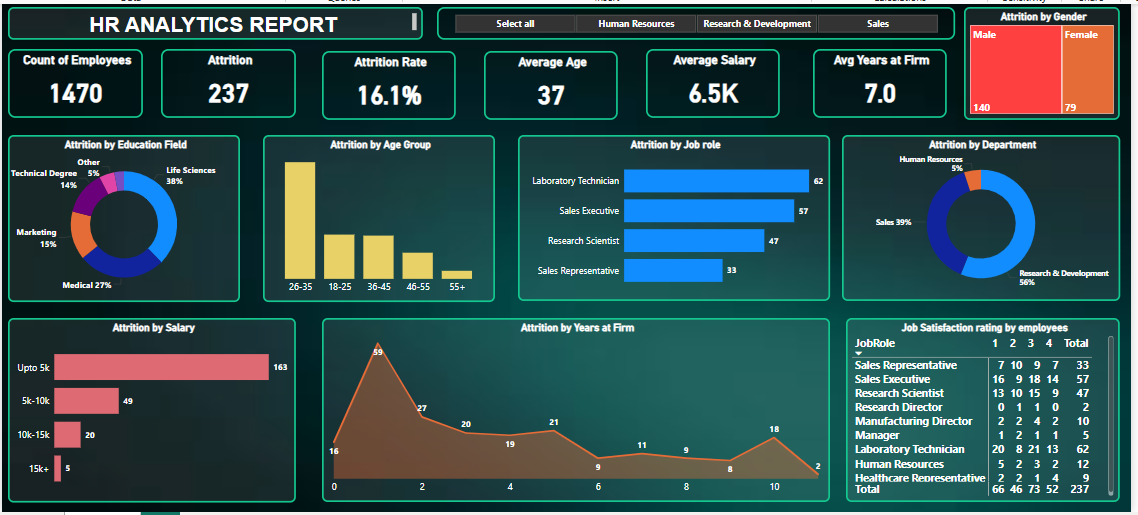

The page's visual inventory and layout, read from the dashboard file:
{"tool":"powerbi","page":{"name":"Page 1","canvas":[2000,900],"ordinal":0},"visuals":[{"type":"card","title":"Count of Employees","fields":{"Values":["Sum(HR_Analytics.EmployeeCount)"]},"box":[10.6,79.1,239.2,122.2],"z":0},{"type":"card","title":"Attrition","fields":{"Values":["Sum(HR_Analytics.Attrition Count)"]},"box":[281.3,79.1,239.2,122.2],"z":1000},{"type":"card","title":"Attrition Rate","fields":{"Values":["HR_Analytics.AttritionRate"]},"box":[567.7,83.5,237.5,122.4],"z":2000},{"type":"card","title":"Average Age","fields":{"Values":["Avg(HR_Analytics.Age)"]},"box":[853.4,83.5,237.5,122.4],"z":3000},{"type":"card","title":"Average Salary","fields":{"Values":["Avg(HR_Analytics.MonthlyIncome)"]},"box":[1141,79.8,237.5,122.4],"z":4000},{"type":"card","title":"Avg Years at Firm","fields":{"Values":["Avg(HR_Analytics.YearsAtCompany)"]},"box":[1436,79.8,237.5,122.4],"z":5000},{"type":"donutChart","title":"Attrition by Education Field","fields":{"Category":["HR_Analytics.EducationField"],"Y":["Sum(HR_Analytics.Attrition Count)"]},"box":[10.6,232.1,411,295.9],"z":6000},{"type":"columnChart","title":"Attrition by Age Group","fields":{"Category":["HR_Analytics.AgeGroup"],"Y":["Sum(HR_Analytics.Attrition Count)"]},"box":[462.4,232.1,411,295.9],"z":7000},{"type":"pivotTable","title":"Job Satisfaction rating by employees ","fields":{"Rows":["HR_Analytics.JobRole"],"Values":["Sum(HR_Analytics.Attrition Count)"],"Columns":["HR_Analytics.JobSatisfaction"]},"box":[1495.3,556.3,485.4,326],"z":8000},{"type":"clusteredBarChart","title":"Attrition by Salary","fields":{"Category":["HR_Analytics.SalarySlab"],"Y":["Sum(HR_Analytics.Attrition Count)"]},"box":[11.1,556.6,510.2,326.5],"z":9000},{"type":"clusteredBarChart","title":"Attrition by Job role","fields":{"Y":["Sum(HR_Analytics.Attrition Count)"],"Category":["HR_Analytics.JobRole"]},"box":[914.2,232.1,552.8,294.1],"z":10000},{"type":"areaChart","title":"Attrition by Years at Firm","fields":{"Category":["HR_Analytics.YearsAtCompany"],"Y":["Sum(HR_Analytics.Attrition Count)"]},"box":[566.9,556.3,900,326],"z":11000},{"type":"treemap","title":"Attrition by Gender","fields":{"Group":["HR_Analytics.Gender"],"Values":["Sum(HR_Analytics.Attrition Count)"]},"box":[1705,5.6,276.4,200.4],"z":12000},{"type":"slicer","fields":{"Values":["HR_Analytics.Department"]},"box":[769.9,5.6,918.4,57.5],"z":13000},{"type":"textbox","box":[11.1,5.6,734.7,57.5],"z":14000},{"type":"pieChart","title":"Attrition by Department","fields":{"Category":["HR_Analytics.Department"],"Y":["Sum(HR_Analytics.Attrition Count)"]},"box":[1488.2,232.1,492.5,294.1],"z":15000}]}

Visuals, with their boxes in screenshot pixels (x1, y1, x2, y2), scaled from the page's 2000x900 canvas onto the 1138x515 screenshot:
"Count of Employees" card: 6:45:142:115
"Attrition" card: 160:45:296:115
"Attrition Rate" card: 323:48:458:118
"Average Age" card: 486:48:621:118
"Average Salary" card: 649:46:784:116
"Avg Years at Firm" card: 817:46:952:116
"Attrition by Education Field" donutChart: 6:133:240:302
"Attrition by Age Group" columnChart: 263:133:497:302
"Job Satisfaction rating by employees " pivotTable: 851:318:1127:505
"Attrition by Salary" clusteredBarChart: 6:318:297:505
"Attrition by Job role" clusteredBarChart: 520:133:835:301
"Attrition by Years at Firm" areaChart: 323:318:835:505
"Attrition by Gender" treemap: 970:3:1127:118
slicer - HR_Analytics.Department: 438:3:961:36
textbox: 6:3:424:36
"Attrition by Department" pieChart: 847:133:1127:301
